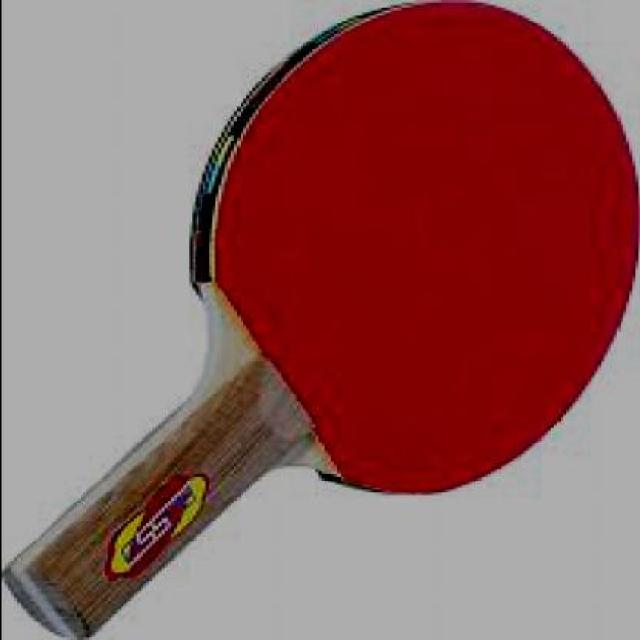table_tennis_racket: (179, 0, 638, 514)
